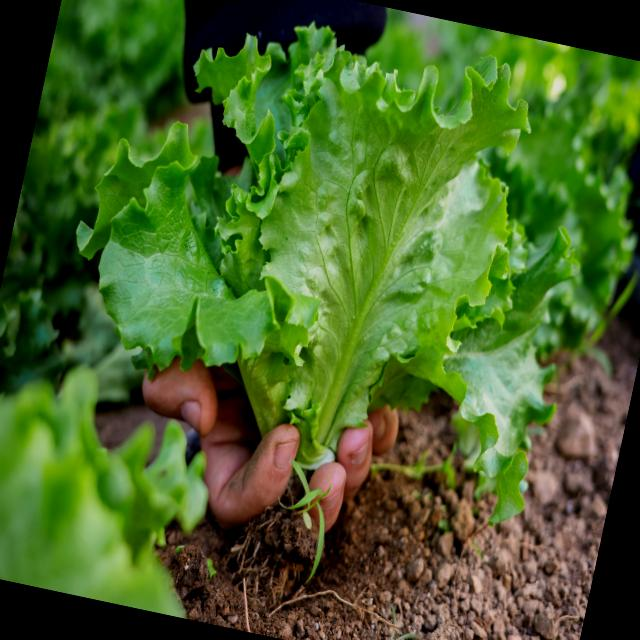inmadura: (76, 23, 578, 523)
